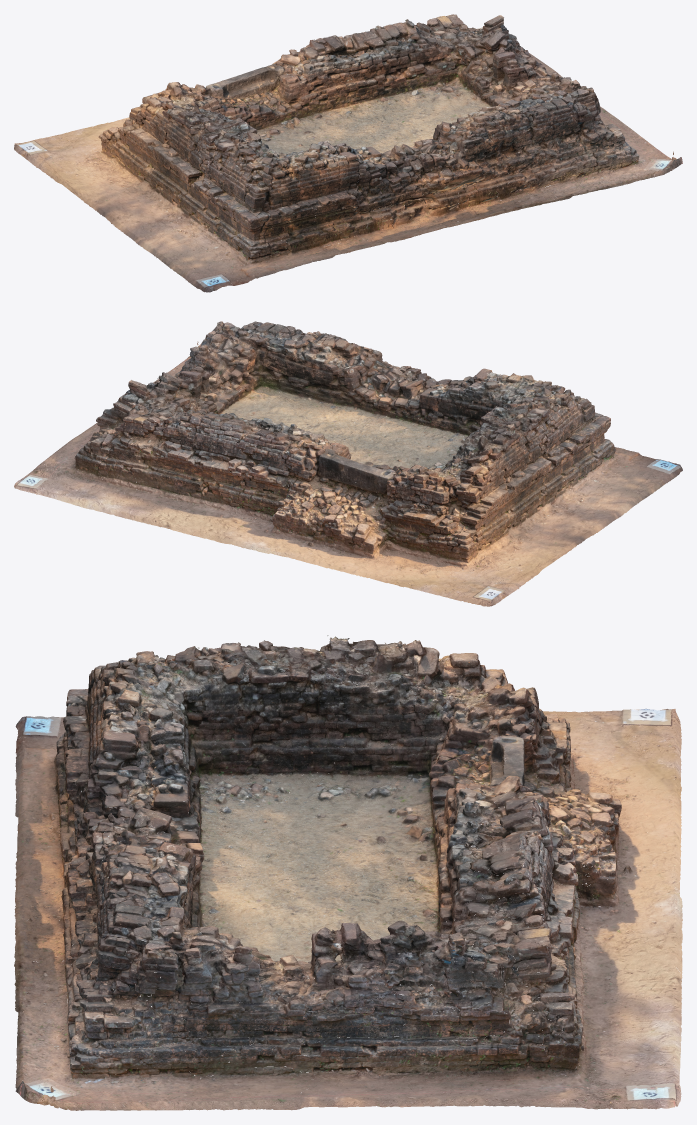
The model's file is my-son-g4.glb.
3 renders of one model, top to bottom at view 1: azimuth 30°, elevation 25°; view 2: azimuth 150°, elevation 25°; view 3: azimuth 270°, elevation 25°, orthographic. The views are drawn at different scales.
Size of the model in its own units: 8.26 by 1.45 by 5.82.
4 materials, 4 textured.
